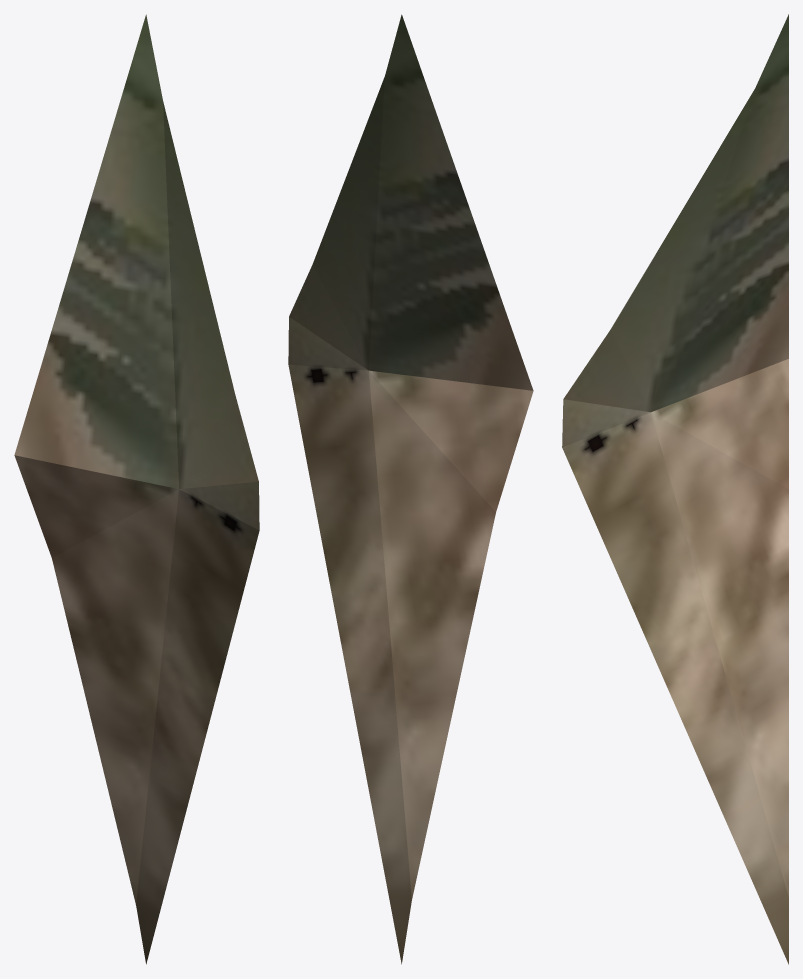
3 views of the same model, side by side, from view 1: azimuth 30°, elevation 25°; view 2: azimuth 210°, elevation 25°; view 3: azimuth 270°, elevation 25° (orthographic).
Bounding box in the file's own units: 0.2709 × 1.87 × 0.4035.
1 material, 1 textured.
